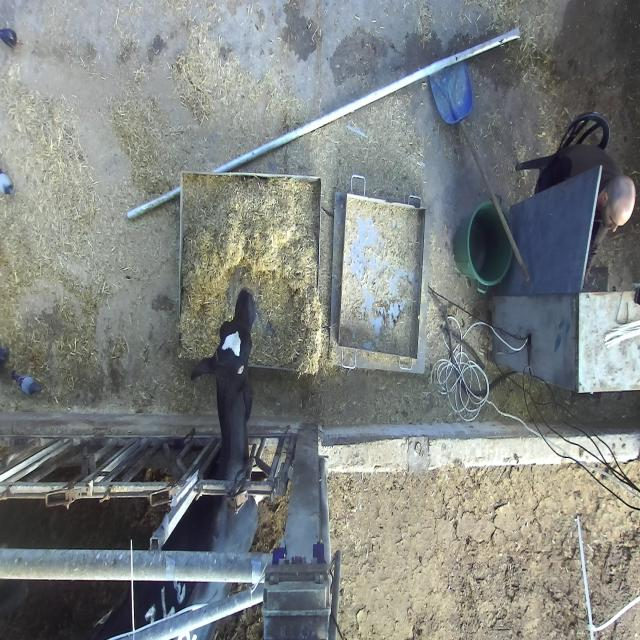cow: (189, 289, 257, 419)
